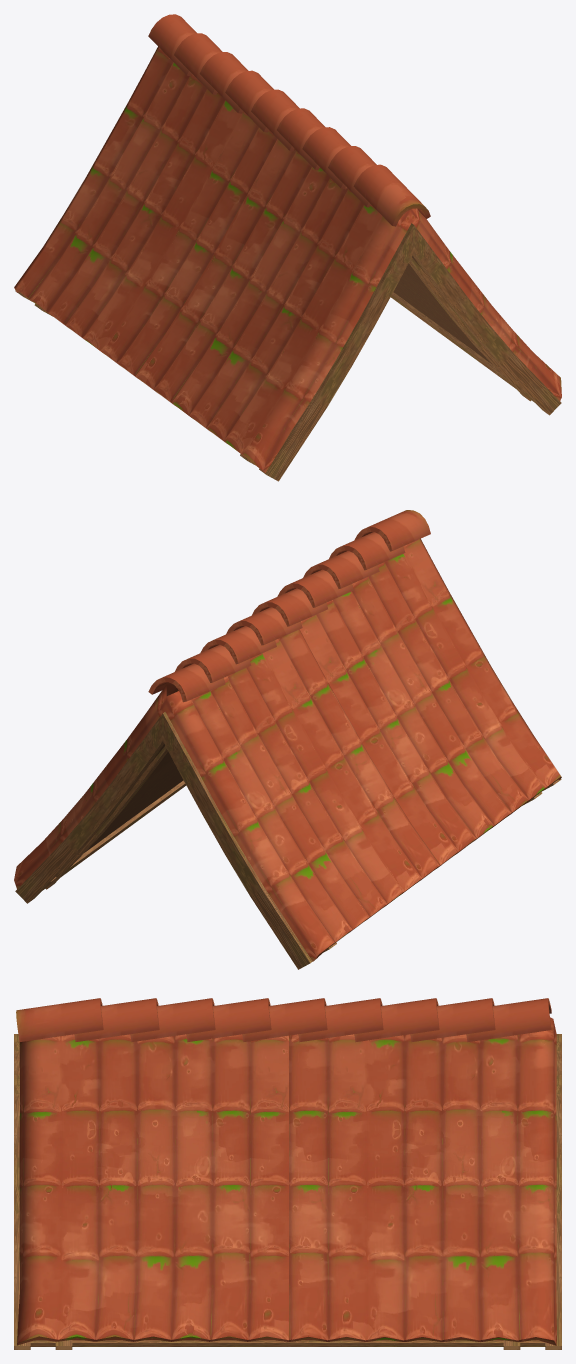
The model's file is Roof_RoundTiles_4x6.gltf.
The picture shows the model from 3 angles, top to bottom: view 1: azimuth 30°, elevation 25°; view 2: azimuth 150°, elevation 25°; view 3: azimuth 270°, elevation 25°; orthographic projection. The views are drawn at different scales.
Parts seen in each view (by area): view 1: Roof_RoundTiles_4x6; view 2: Roof_RoundTiles_4x6; view 3: Roof_RoundTiles_4x6.
Part boxes in pixels (left/top/right/bottom): Roof_RoundTiles_4x6: left=14, top=14, right=561, bottom=481; Roof_RoundTiles_4x6: left=14, top=510, right=561, bottom=969; Roof_RoundTiles_4x6: left=14, top=998, right=561, bottom=1349.
Bounding box in the file's own units: 5.51 × 4.23 × 7.57.
2 materials, 2 textured.
